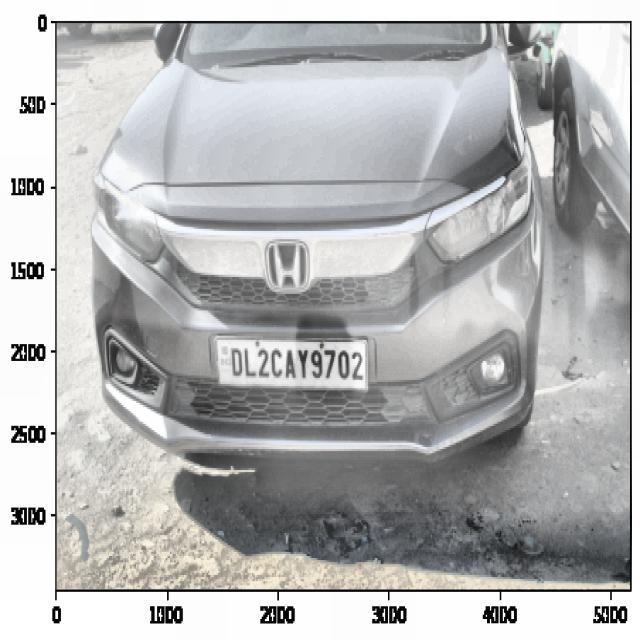license_plate: (226, 343, 369, 393)
